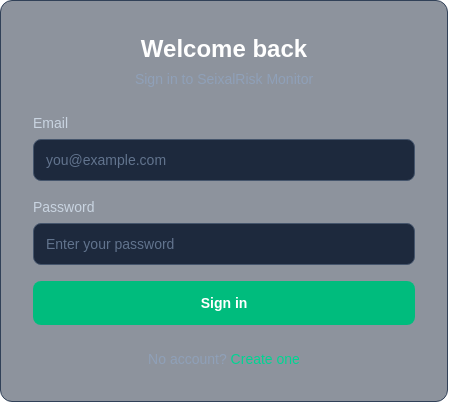
it: LoginPage › shows loading state when submitting
Type "test@example.com" into the field labelled "Email" at (224,160), box [33,139,415,181]
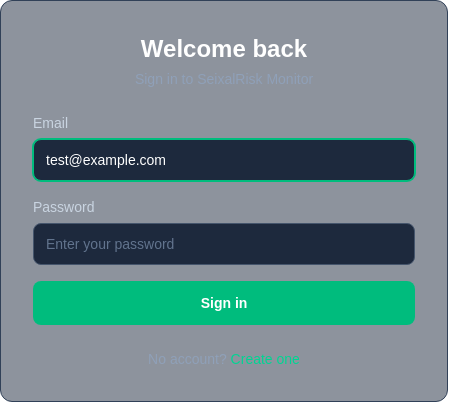
Type "password123" into the password field labelled "Password" at (224,244), box [33,223,415,265]
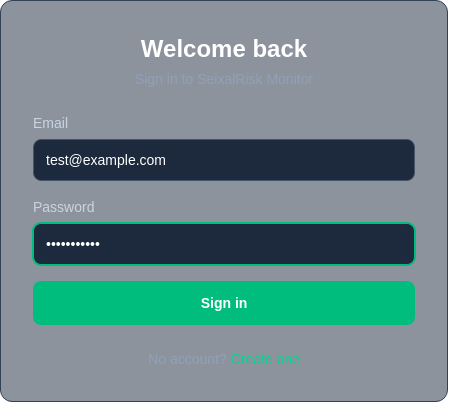
Click the button "Sign in" at (224,303), box [33,281,415,325]
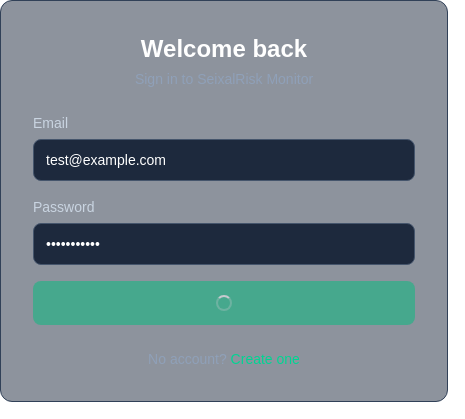
Check: the button is disabled, box [33,281,415,325]
